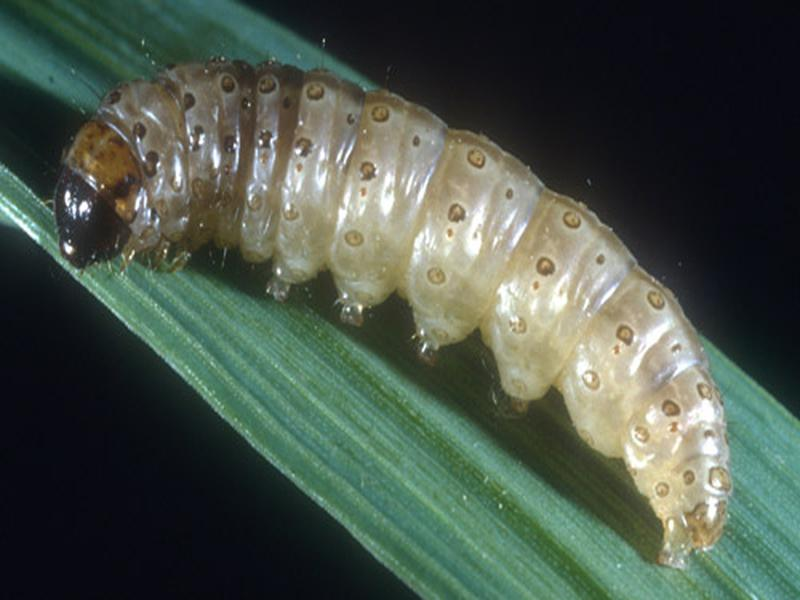Whorl_maggot: (42, 55, 737, 572)
